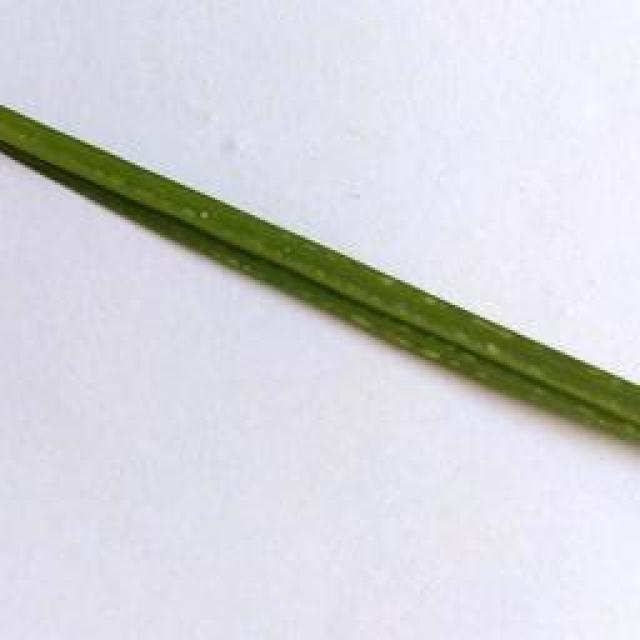Healthy-Plant: (0, 87, 640, 463)
